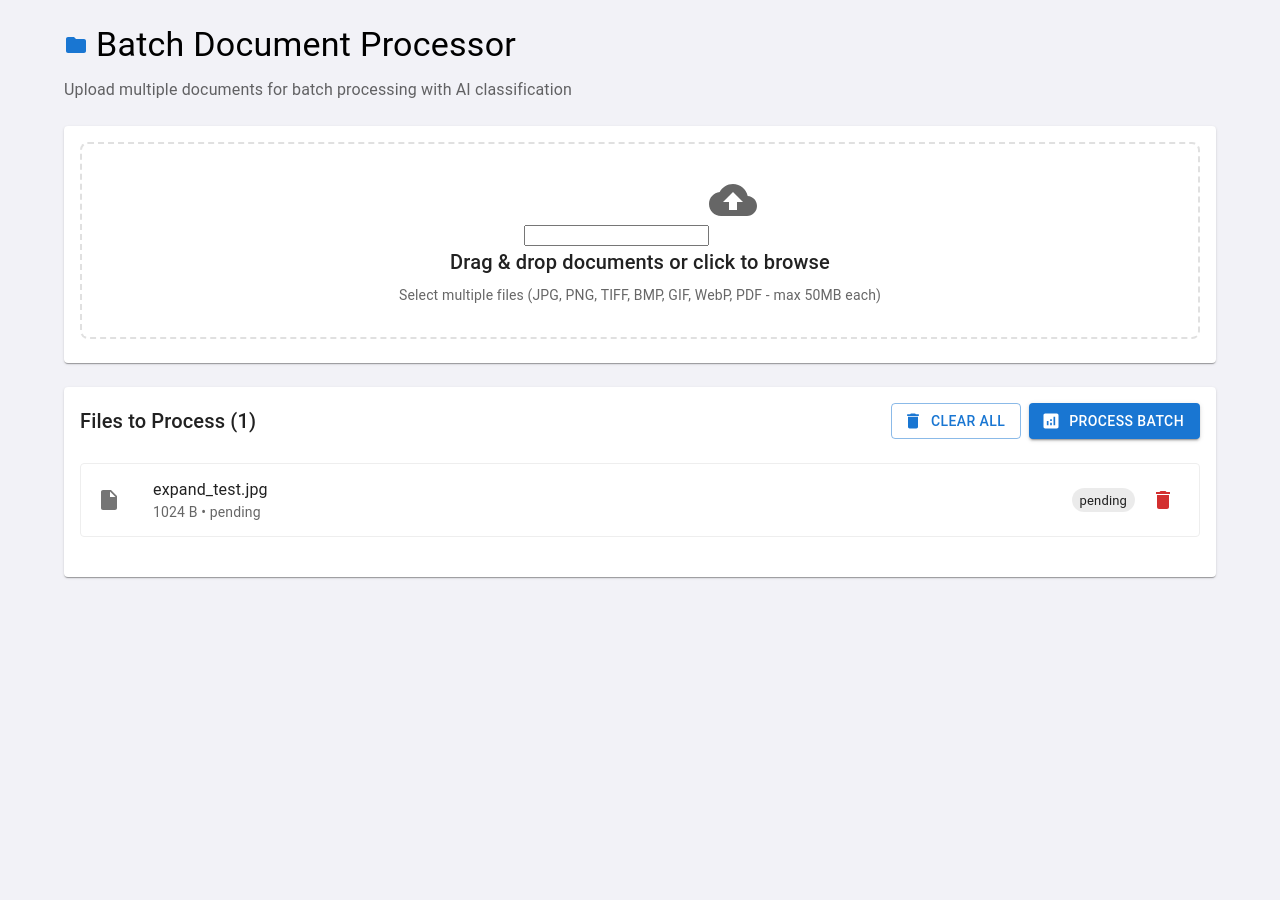
Test case: BatchProcessor › result row expansion › changes expand button aria-label to "Collapse details" when expanded
Click the button "Process Batch" at (1115, 421), box 1029,403 -> 1200,439
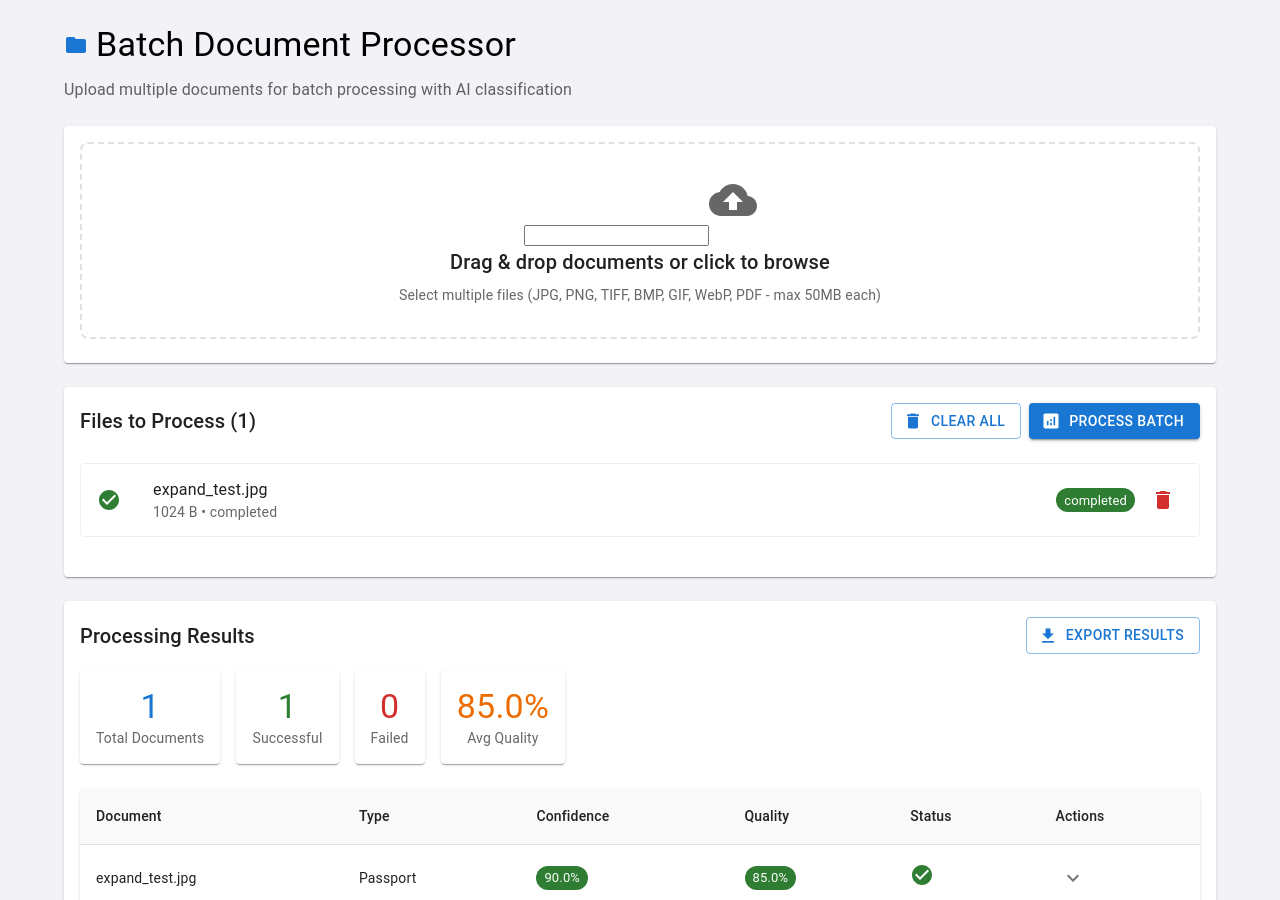
Expected: the heading "Processing Results" is shown, 80,620 -> 255,652
Click the button named "expand details" at (1072, 878), box 1056,861 -> 1090,895
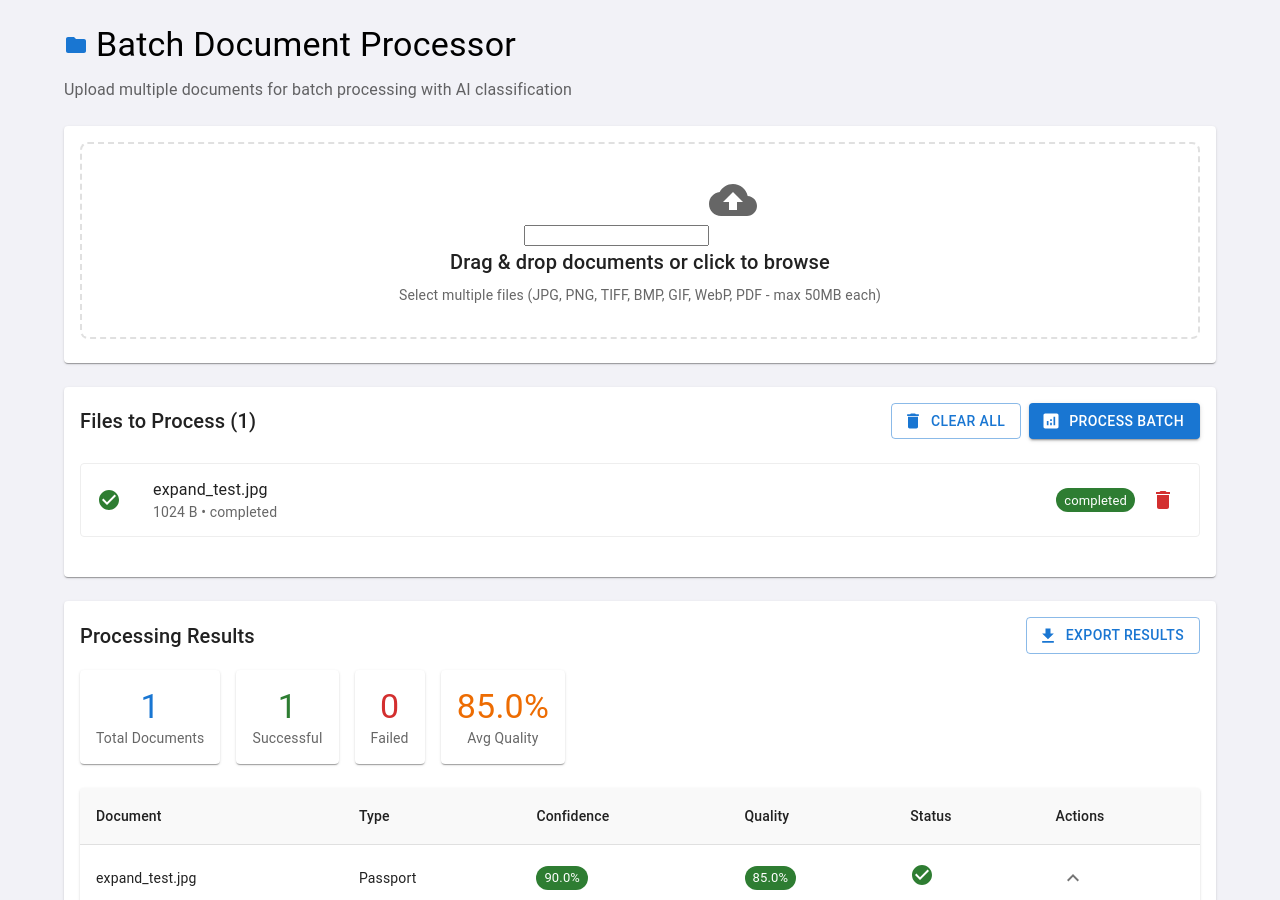
Expected: the button named "collapse details" is shown, 1056,861 -> 1090,895
